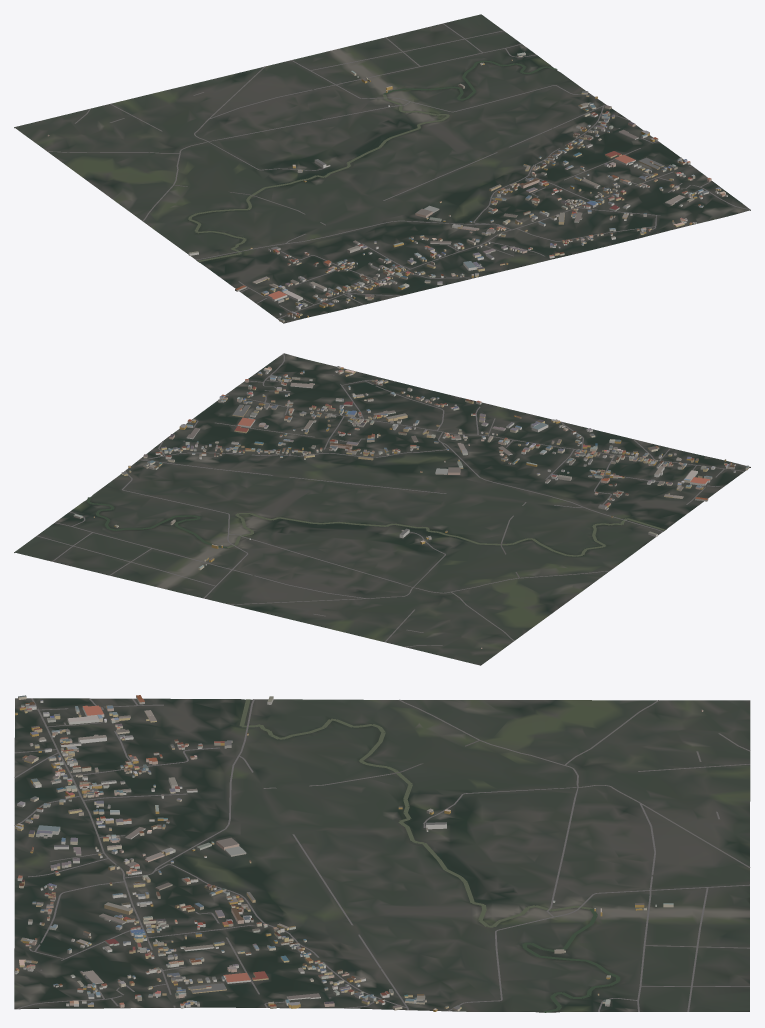
3 views of the same model, one above another, from view 1: azimuth 30°, elevation 25°; view 2: azimuth 150°, elevation 25°; view 3: azimuth 270°, elevation 25° (orthographic). The views are drawn at different scales.
Visible parts, largest first — view 1: ground, buildings, roads, water; view 2: ground, buildings, roads, water; view 3: ground, buildings, roads, water.
Part boxes in pixels (x1=…): ground: x1=14, y1=14, x2=750, y2=323; buildings: x1=47, y1=52, x2=727, y2=322; roads: x1=47, y1=23, x2=749, y2=318; water: x1=188, y1=60, x2=557, y2=261; ground: x1=14, y1=353, x2=750, y2=665; buildings: x1=73, y1=366, x2=748, y2=648; roads: x1=36, y1=353, x2=744, y2=647; water: x1=86, y1=497, x2=665, y2=556; ground: x1=14, y1=698, x2=750, y2=1012; buildings: x1=14, y1=695, x2=703, y2=1011; roads: x1=14, y1=698, x2=750, y2=1011; water: x1=239, y1=699, x2=620, y2=1012.
Bounding box in the file's own units: 1412 × 20.51 × 1405.
